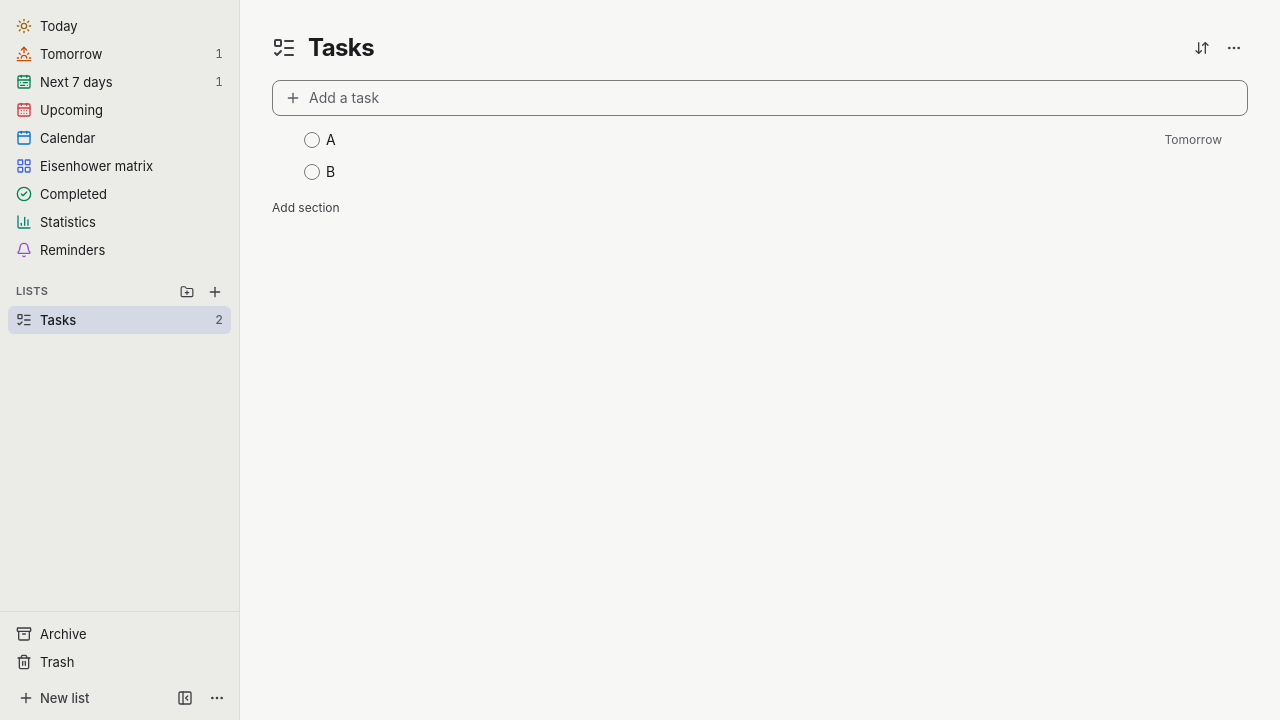
Test: TodoList row menu and due date › opens the due-date picker from the date on the row, without selecting or editing
Click the 2nd field named "Task".
click(350, 172)  # box [326,160,373,184]
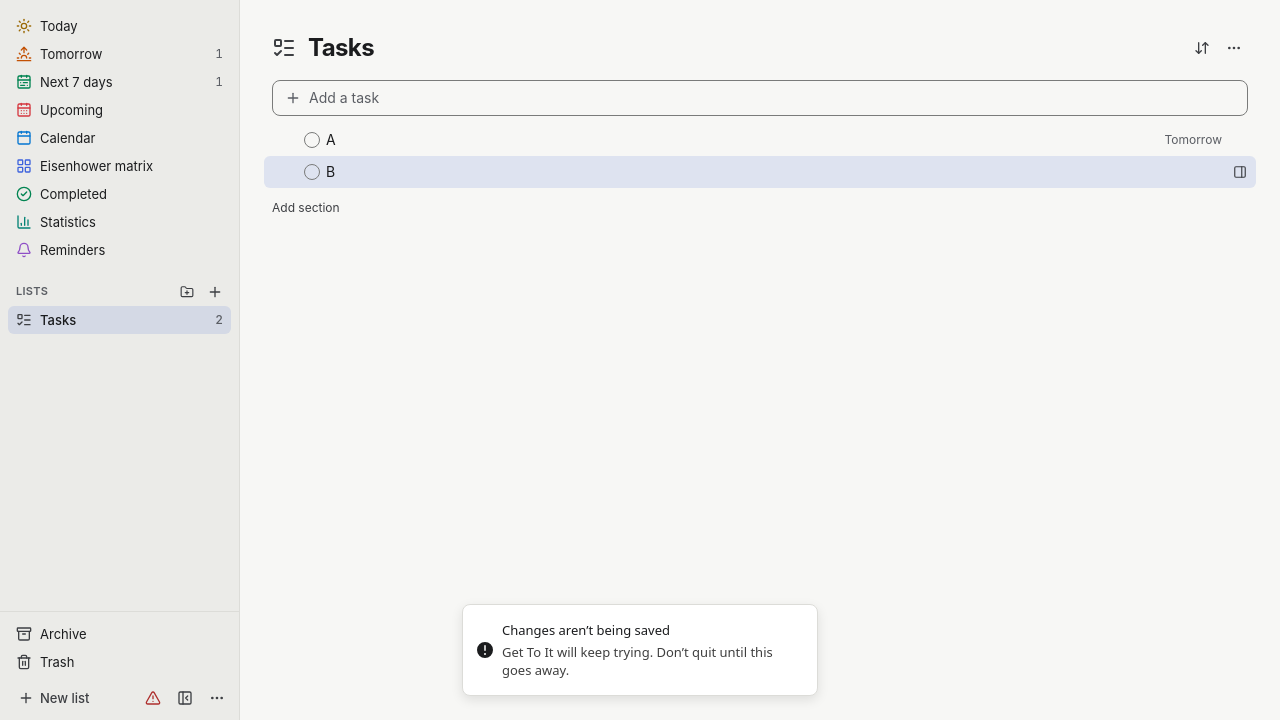
Click the button with aria-label "Due date: Tomorrow, change".
click(1193, 140)  # box [1160,130,1226,150]
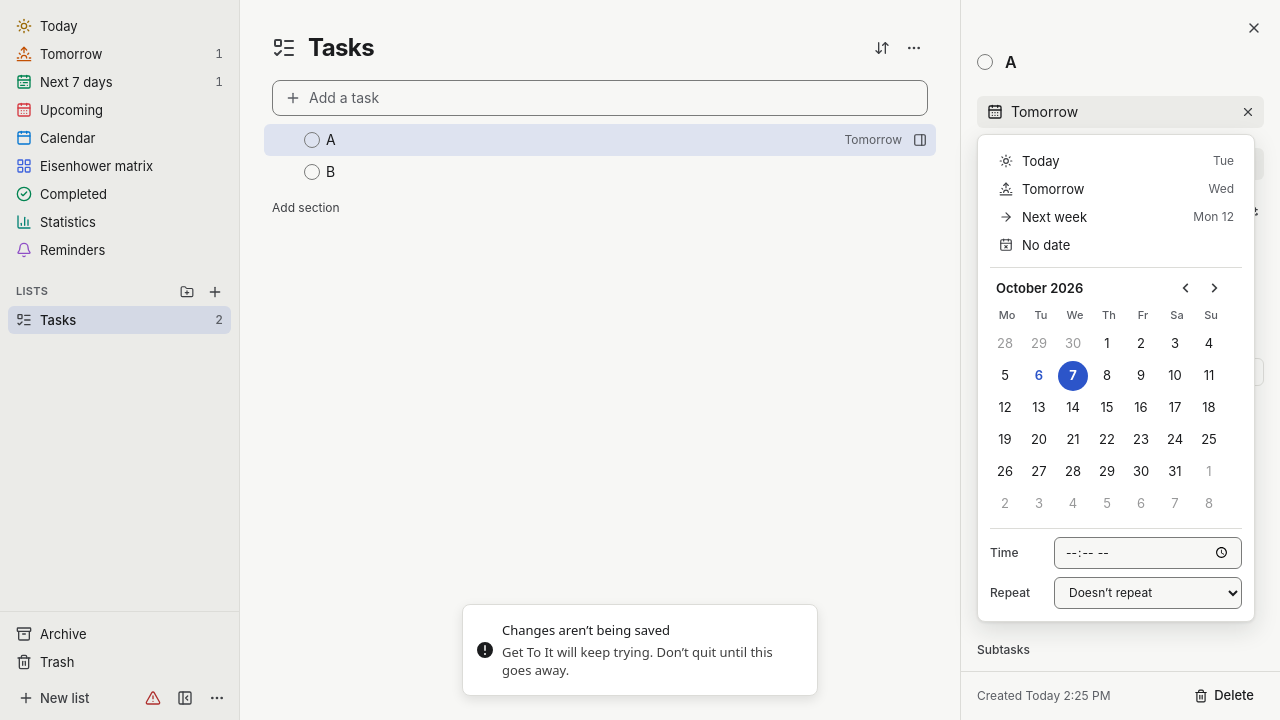
Now the button with aria-label "Due Tomorrow" is shown, box [977,96,1232,128]
